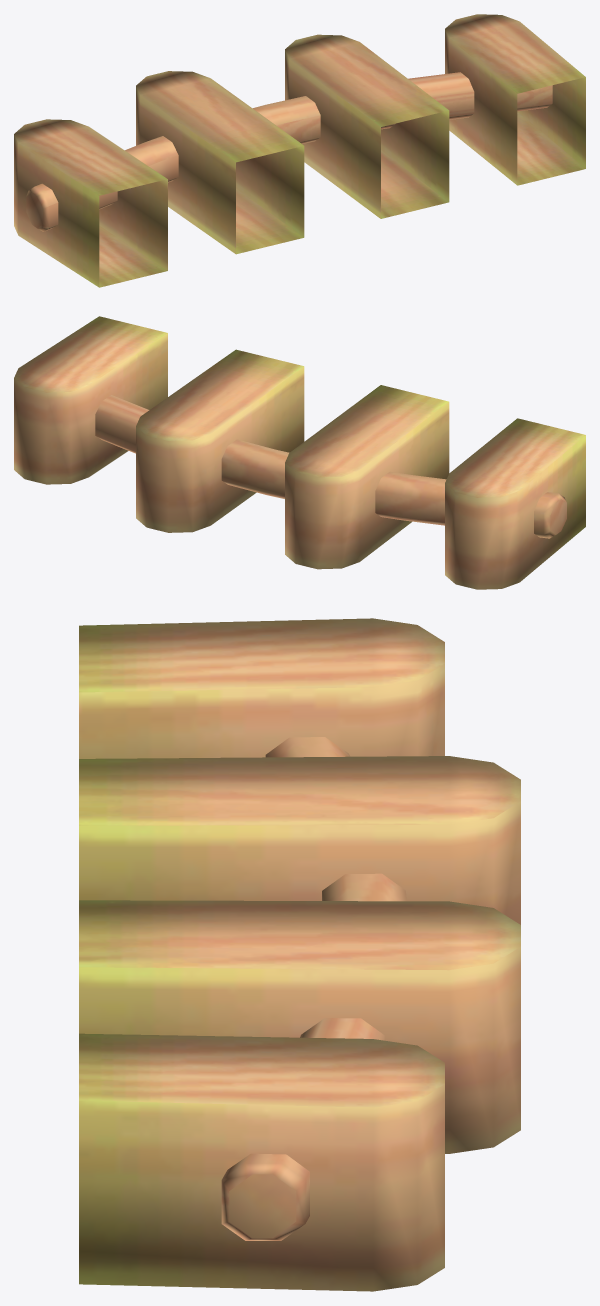
The model's file is FenceSimple.FBX.
The picture shows the model from 3 angles, top to bottom: view 1: azimuth 30°, elevation 25°; view 2: azimuth 150°, elevation 25°; view 3: azimuth 270°, elevation 25°; orthographic projection. The views are drawn at different scales.
Parts seen in each view (by area): view 1: polySurface2325__Fence00; view 2: polySurface2325__Fence00; view 3: polySurface2325__Fence00.
Boxes of the visible parts, <box> form: polySurface2325__Fence00: <box>14,14,585,287</box>; polySurface2325__Fence00: <box>14,316,585,589</box>; polySurface2325__Fence00: <box>79,618,520,1291</box>.
Bounding box in the file's own units: 358 × 60 × 131.
